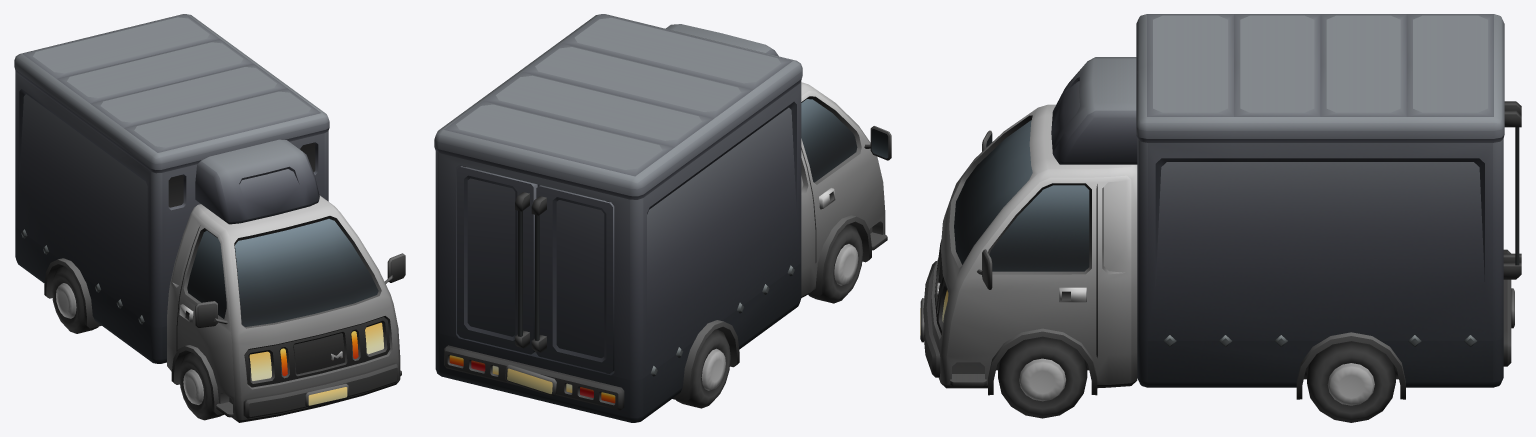
Rendered from VHC0110016.FBX.
The picture shows the model from 3 angles, left to right: view 1: azimuth 30°, elevation 25°; view 2: azimuth 150°, elevation 25°; view 3: azimuth 270°, elevation 25°; orthographic projection. The views are drawn at different scales.
Visible parts, largest first — view 1: smVHC0110016; view 2: smVHC0110016; view 3: smVHC0110016.
Part boxes in pixels (x1,y1,x2,y2): smVHC0110016: (14,14,405,422); smVHC0110016: (434,14,891,422); smVHC0110016: (920,14,1521,422).
Size of the model in its own units: 2.79 by 3 by 5.4.
Materials: 1 (1 with a texture image).
